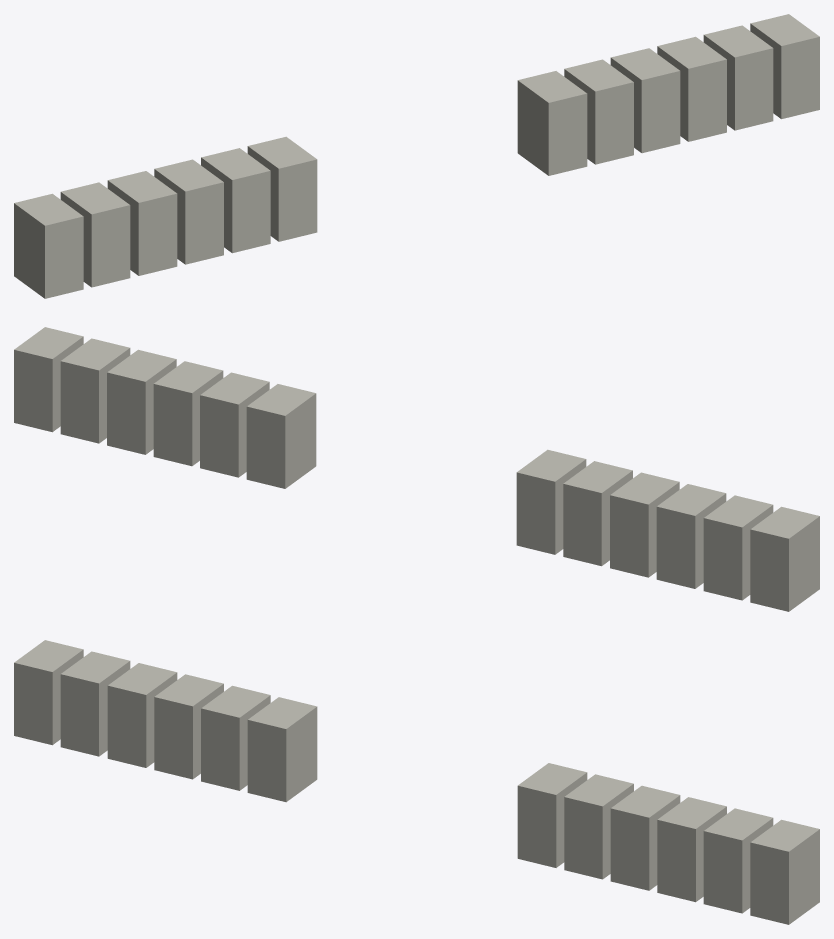
Rendered from wall_stone.obj.
3 views of the same model, one above another, from view 1: azimuth 30°, elevation 25°; view 2: azimuth 150°, elevation 25°; view 3: azimuth 330°, elevation 25° (orthographic).
Parts seen in each view (by area): view 1: 立方体.268; view 2: 立方体.268; view 3: 立方体.268.
Boxes of the visible parts, x1,y1,x2,y2 form: 立方体.268: (14, 14, 819, 298); 立方体.268: (14, 327, 819, 611); 立方体.268: (14, 640, 819, 924).
Size of the model in its own units: 561 by 50.57 by 38.93.
Materials: 1 (1 with a texture image).
